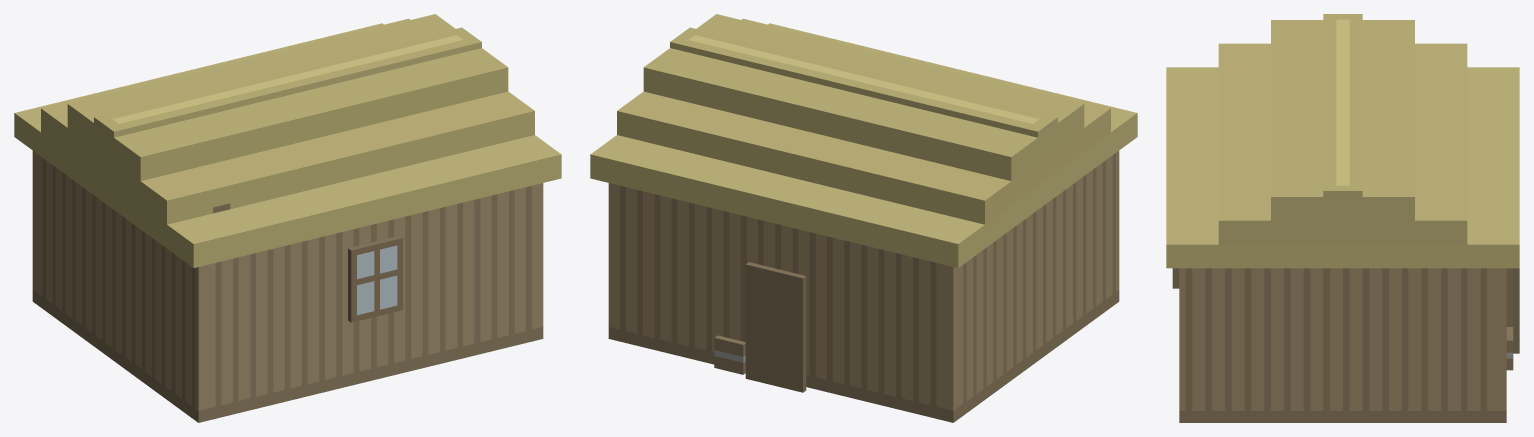
Rendered from choza_pescador_02.glb.
The picture shows the model from 3 angles, left to right: view 1: azimuth 30°, elevation 25°; view 2: azimuth 150°, elevation 25°; view 3: azimuth 270°, elevation 25°; orthographic projection.
Visible parts, largest first — view 1: choza_pescador_02; view 2: choza_pescador_02; view 3: choza_pescador_02.
Part boxes in pixels (x1=…): choza_pescador_02: x1=14, y1=14, x2=561, y2=422; choza_pescador_02: x1=590, y1=14, x2=1137, y2=422; choza_pescador_02: x1=1166, y1=14, x2=1519, y2=422.
Size of the model in its own units: 6.4 by 4 by 5.4.
